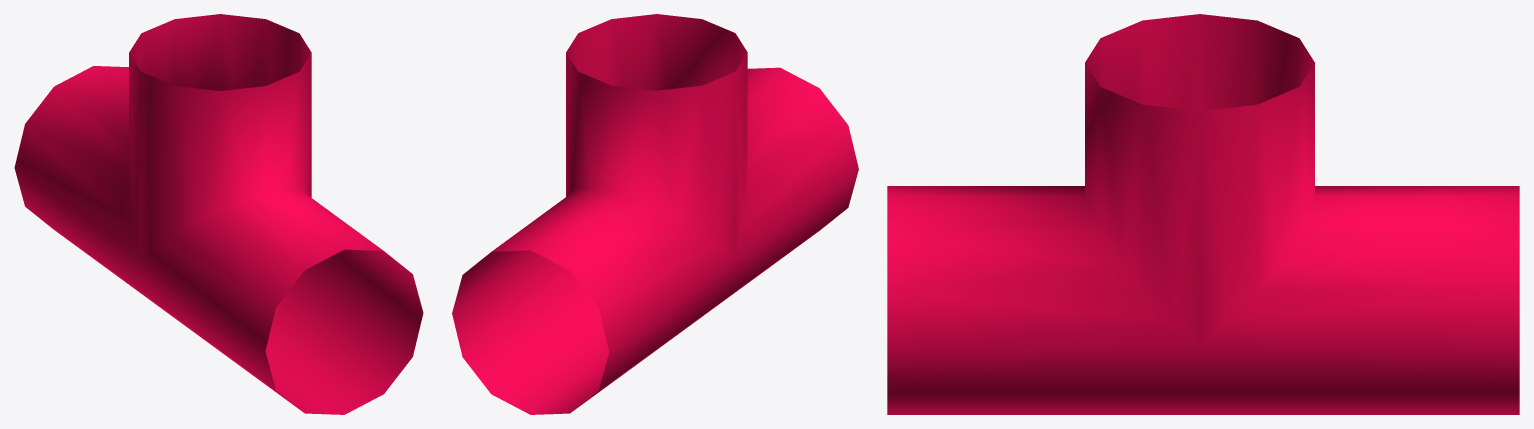
Rendered from pipe_t.FBX.
3 views of the same model, side by side, from view 1: azimuth 30°, elevation 25°; view 2: azimuth 150°, elevation 25°; view 3: azimuth 270°, elevation 25° (orthographic). The views are drawn at different scales.
Parts seen in each view (by area): view 1: pipe_t; view 2: pipe_t; view 3: pipe_t.
Part boxes in pixels (left/top/right/bottom): pipe_t: left=14, top=14, right=423, bottom=414; pipe_t: left=452, top=14, right=858, bottom=414; pipe_t: left=887, top=14, right=1519, bottom=414.
Bounding box in the file's own units: 6.4 × 10.51 × 17.6.
